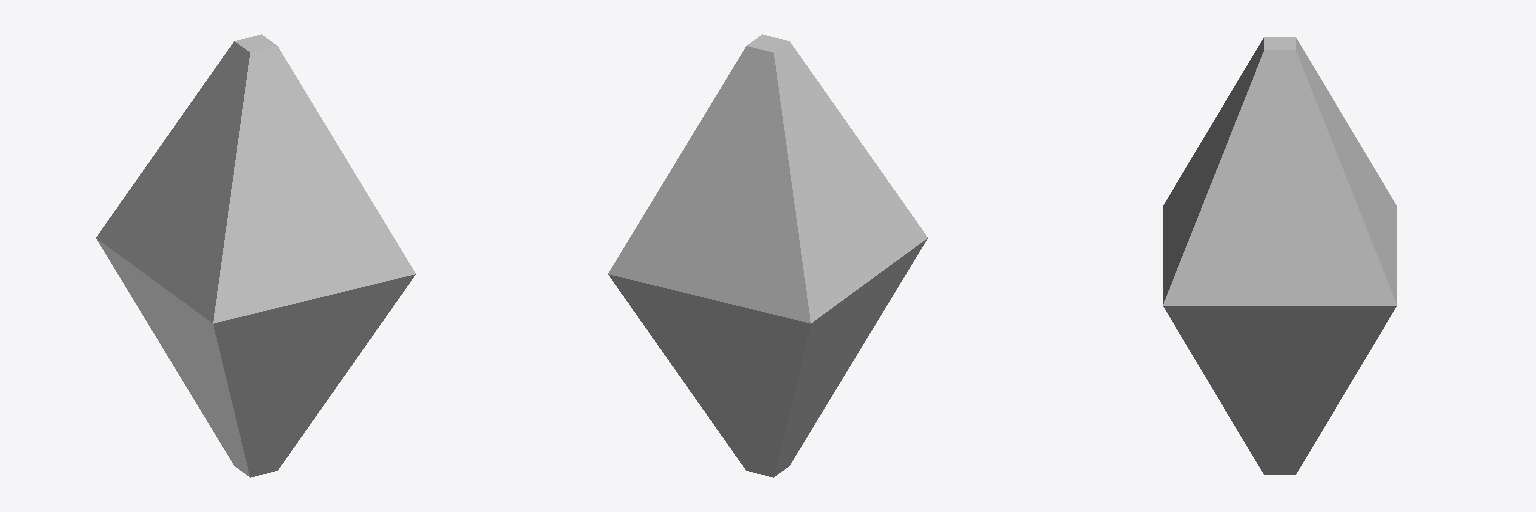
Rendered from selected.obj.
The picture shows the model from 3 angles: view 1: azimuth 30°, elevation 25°; view 2: azimuth 150°, elevation 25°; view 3: azimuth 270°, elevation 25°; orthographic projection.
Visible parts, largest first — view 1: Cube.001, Cube.002; view 2: Cube.001, Cube.002; view 3: Cube.001, Cube.002.
Boxes of the visible parts, x1=… form: Cube.001: x1=96, y1=34, x2=415, y2=323; Cube.002: x1=96, y1=238, x2=415, y2=477; Cube.001: x1=608, y1=34, x2=927, y2=323; Cube.002: x1=608, y1=238, x2=927, y2=477; Cube.001: x1=1163, y1=37, x2=1396, y2=305; Cube.002: x1=1163, y1=306, x2=1396, y2=474.
Bounding box in the file's own units: 1 × 2 × 1.